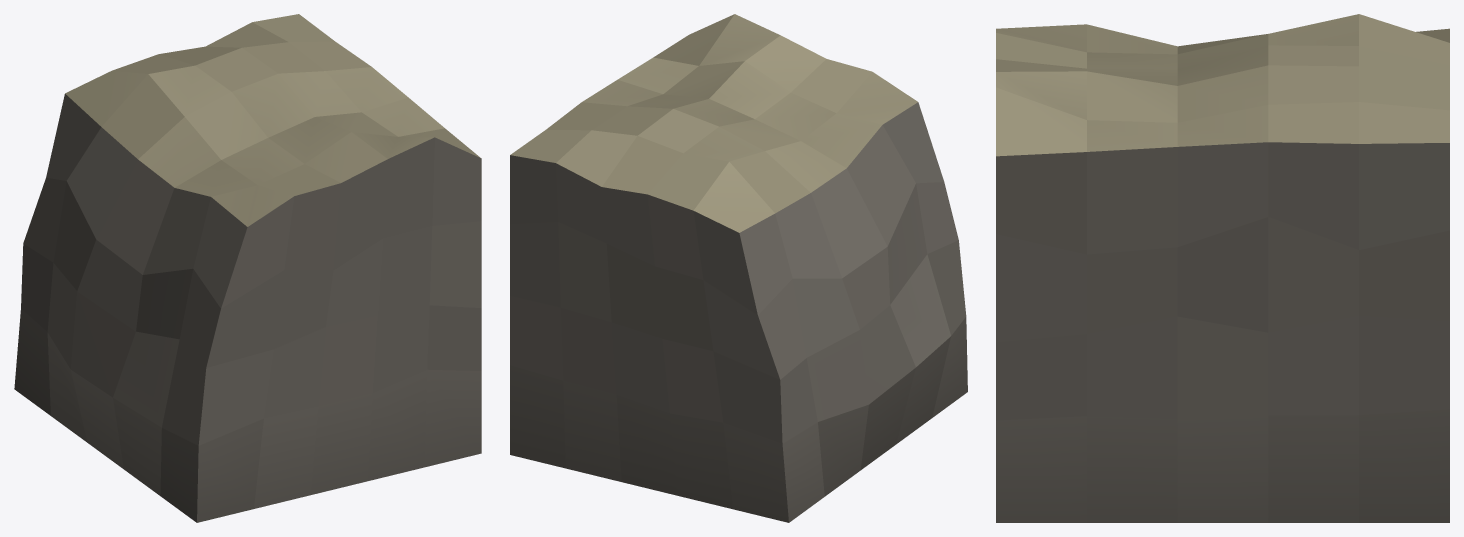
Rendered from roca_te_3.glb.
The picture shows the model from 3 angles, left to right: view 1: azimuth 30°, elevation 25°; view 2: azimuth 150°, elevation 25°; view 3: azimuth 270°, elevation 25°; orthographic projection. The views are drawn at different scales.
Visible parts, largest first — view 1: propforge-cuartos-roca_te; view 2: propforge-cuartos-roca_te; view 3: propforge-cuartos-roca_te.
Boxes of the visible parts, x1,y1,x2,y2 form: propforge-cuartos-roca_te: [14, 14, 481, 522]; propforge-cuartos-roca_te: [510, 14, 967, 522]; propforge-cuartos-roca_te: [996, 14, 1449, 522].
Bounding box in the file's own units: 0.9492 × 0.9899 × 1.
